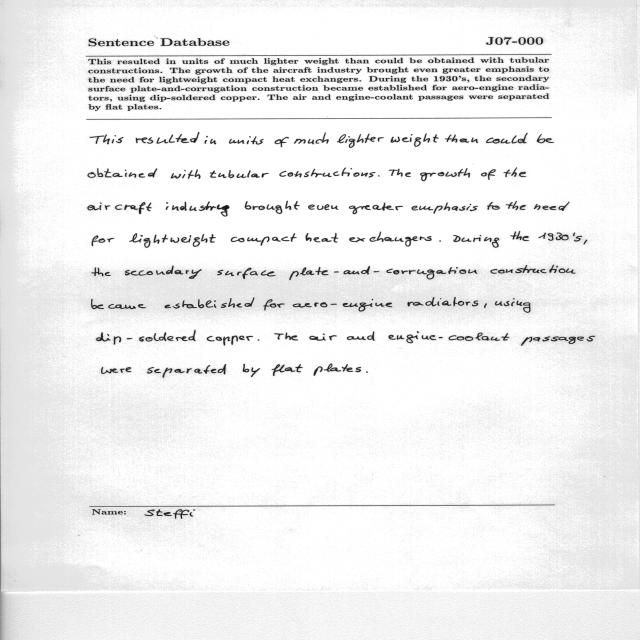word: (290, 266, 478, 280), (96, 330, 196, 345), (389, 331, 510, 343), (129, 233, 216, 248), (349, 232, 432, 247), (293, 299, 392, 311), (147, 364, 226, 378), (165, 297, 255, 309), (125, 265, 202, 279), (280, 168, 376, 178), (166, 202, 230, 217), (231, 233, 297, 246), (88, 202, 152, 214), (491, 265, 576, 274), (136, 132, 199, 144), (521, 336, 595, 346), (411, 203, 478, 214), (245, 201, 300, 214), (88, 168, 157, 178), (390, 133, 439, 147), (337, 134, 384, 148), (420, 168, 470, 181), (217, 268, 276, 279), (408, 297, 479, 306), (313, 363, 361, 376), (454, 235, 500, 248), (349, 203, 403, 214), (92, 299, 146, 309), (495, 298, 530, 313), (210, 170, 269, 178), (486, 133, 528, 144), (207, 336, 253, 346), (538, 233, 582, 242), (294, 133, 329, 144), (272, 364, 303, 376), (90, 135, 123, 145), (229, 136, 264, 145), (534, 202, 569, 211), (171, 169, 201, 179), (306, 233, 338, 242), (347, 331, 375, 341), (445, 135, 478, 143), (263, 300, 285, 311), (243, 364, 260, 377), (504, 168, 526, 178), (92, 236, 114, 246), (102, 367, 132, 374), (309, 334, 337, 341), (274, 333, 298, 341), (510, 231, 529, 241), (308, 204, 338, 210), (506, 201, 526, 210), (389, 169, 411, 177), (92, 268, 111, 277), (481, 169, 496, 180), (537, 134, 554, 143), (274, 137, 289, 147), (487, 202, 500, 210), (205, 136, 216, 144), (584, 240, 587, 245), (484, 303, 487, 308), (439, 240, 441, 242), (366, 371, 368, 373), (258, 340, 260, 341), (378, 176, 379, 177)
